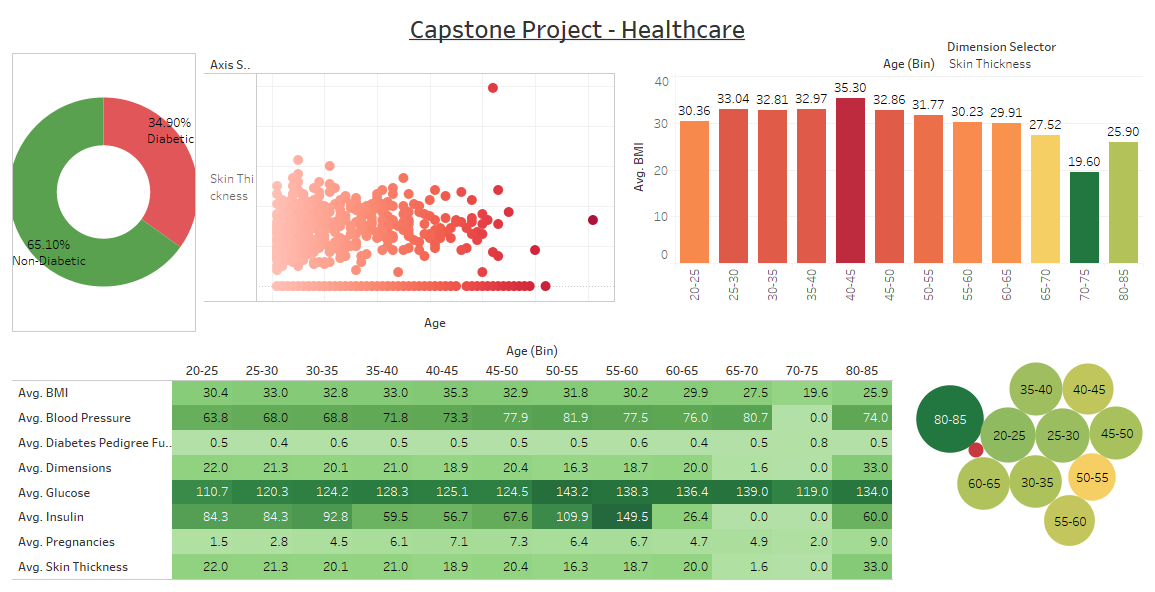

What the dashboard file says about the page in this screenshot:
{"tool":"tableau","page":{"name":"Healthcare","canvas":[1000,1000],"units":"permille","ordinal":0},"visuals":[{"type":"title","box":[6.9,13.5,986.1,69.2]},{"type":"parameter","param":"[Parameters].[Parameter 1]","box":[816.5,55.7,155,86.2]},{"type":"worksheet","title":"Diabetic/NonDiabetic","mark":"Pie","rows":["Number of Records","Number of Records"],"box":[6.9,82.8,166.2,484.8]},{"type":"worksheet","title":"ScatterPlot","mark":"Pie","rows":["Calculation_466967007844392961","Calculation_466967007844790275"],"cols":["Age"],"box":[173.2,82.8,362.8,484.8]},{"type":"worksheet","title":"Histogram","mark":"Automatic","rows":["BMI"],"cols":["Calculation_544091151695736832"],"box":[535.9,82.8,457.1,484.8]},{"type":"worksheet","title":"Heatmap","mark":"Square","cols":["Calculation_544091151695736832"],"box":[6.9,567.6,781.8,418.9]},{"type":"worksheet","title":"Bubble Chart","mark":"Circle","box":[788.7,567.6,204.3,418.9]}]}

Visuals, with their boxes on the dashboard's canvas, which has no fixed pixel size, in thousandths of its width and height (x1, y1, x2, y2). These are canvas units, not pixel positions in the 1155x592 screenshot, which may show the page scaled, cropped or inside an application window:
title: 7/14/993/83
parameter: 816/56/972/142
"Diabetic/NonDiabetic" worksheet (Pie marks): 7/83/173/568
"ScatterPlot" worksheet (Pie marks): 173/83/536/568
"Histogram" worksheet: 536/83/993/568
"Heatmap" worksheet (Square marks): 7/568/789/986
"Bubble Chart" worksheet (Circle marks): 789/568/993/986
